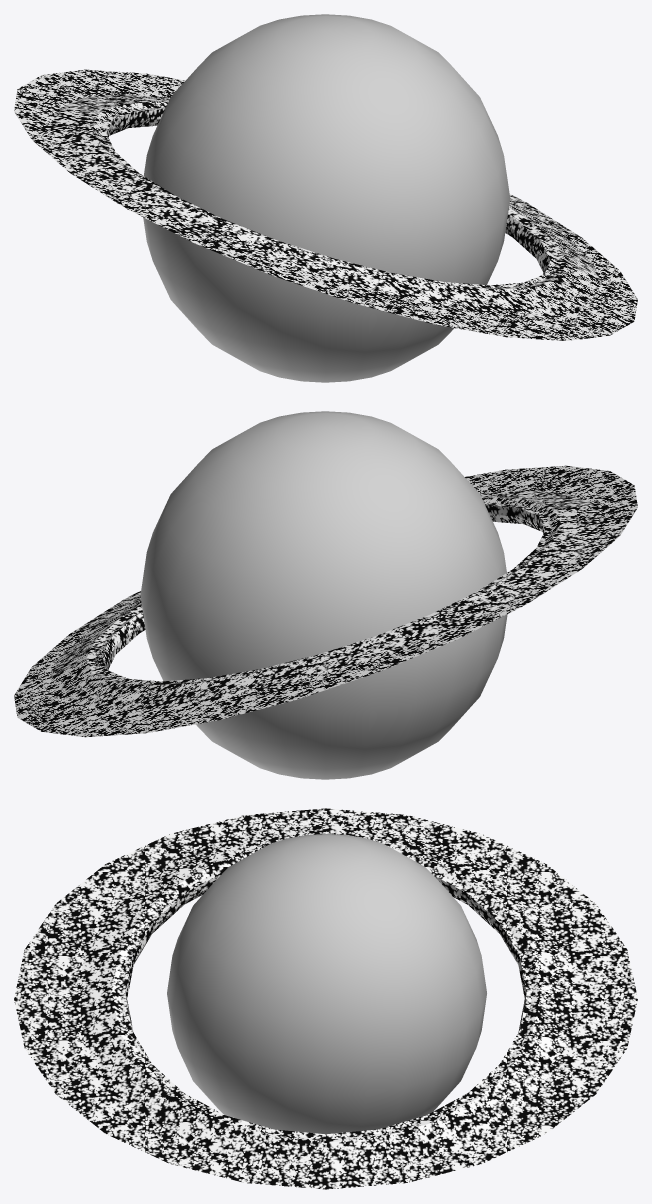
Rendered from Planet.fbx.
The picture shows the model from 3 angles, top to bottom: view 1: azimuth 30°, elevation 25°; view 2: azimuth 150°, elevation 25°; view 3: azimuth 270°, elevation 25°; orthographic projection. The views are drawn at different scales.
Parts seen in each view (by area): view 1: Planet, Planet rings; view 2: Planet, Planet rings; view 3: Planet rings, Planet.
Part boxes in pixels (x1,y1,x2,y2): Planet: [143, 14, 510, 382]; Planet rings: [14, 69, 637, 340]; Planet: [140, 411, 507, 779]; Planet rings: [14, 465, 637, 737]; Planet rings: [14, 808, 637, 1189]; Planet: [167, 834, 486, 1134].
Size of the model in its own units: 425 by 266 by 517.
